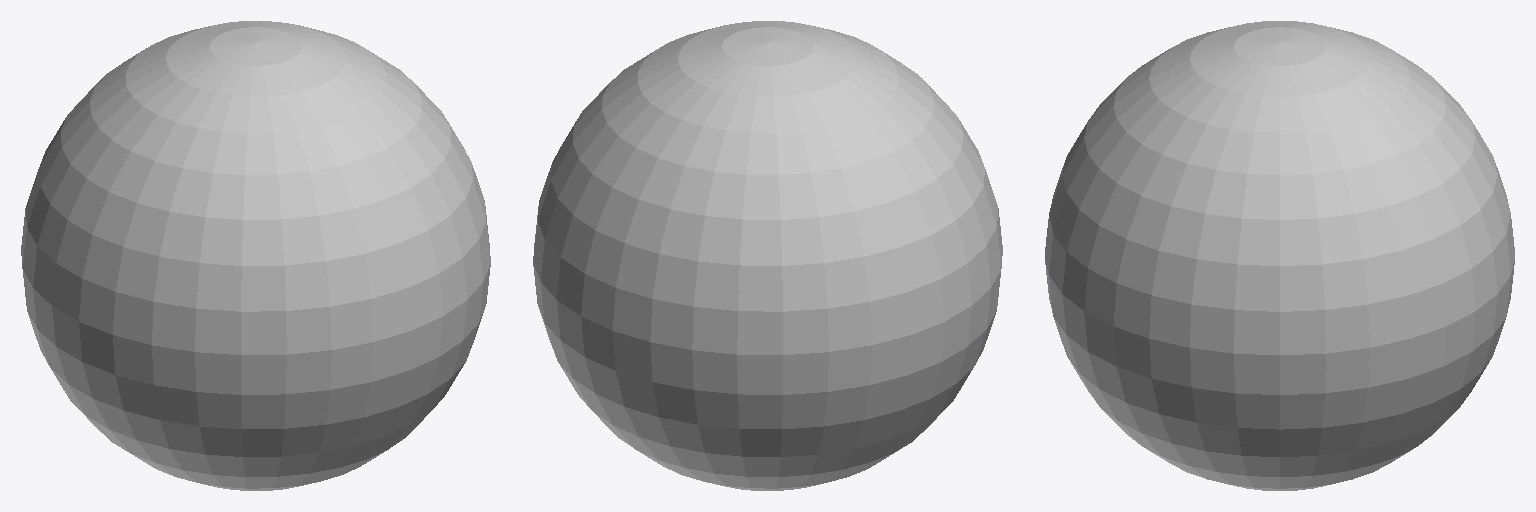
Rendered from Explosion.obj.
The picture shows the model from 3 angles: view 1: azimuth 30°, elevation 25°; view 2: azimuth 150°, elevation 25°; view 3: azimuth 270°, elevation 25°; orthographic projection.
Parts seen in each view (by area): view 1: Sphere; view 2: Sphere; view 3: Sphere.
Part boxes in pixels (left/top/right/bottom): Sphere: left=21, top=21, right=490, bottom=490; Sphere: left=533, top=21, right=1002, bottom=490; Sphere: left=1045, top=21, right=1514, bottom=490.
Bounding box in the file's own units: 0.25 × 0.25 × 0.25.